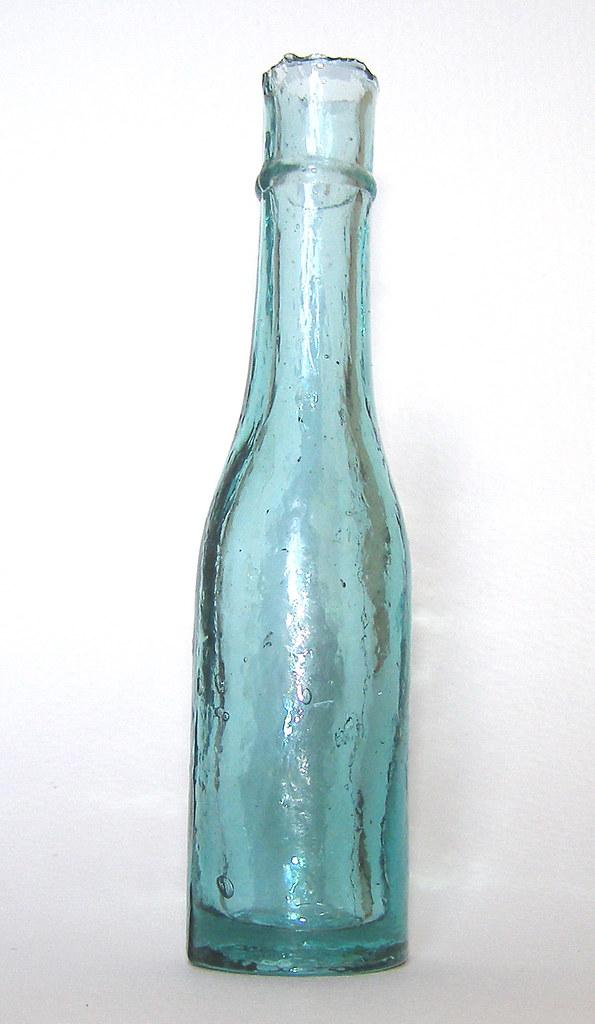bottle: (186, 52, 413, 977)
